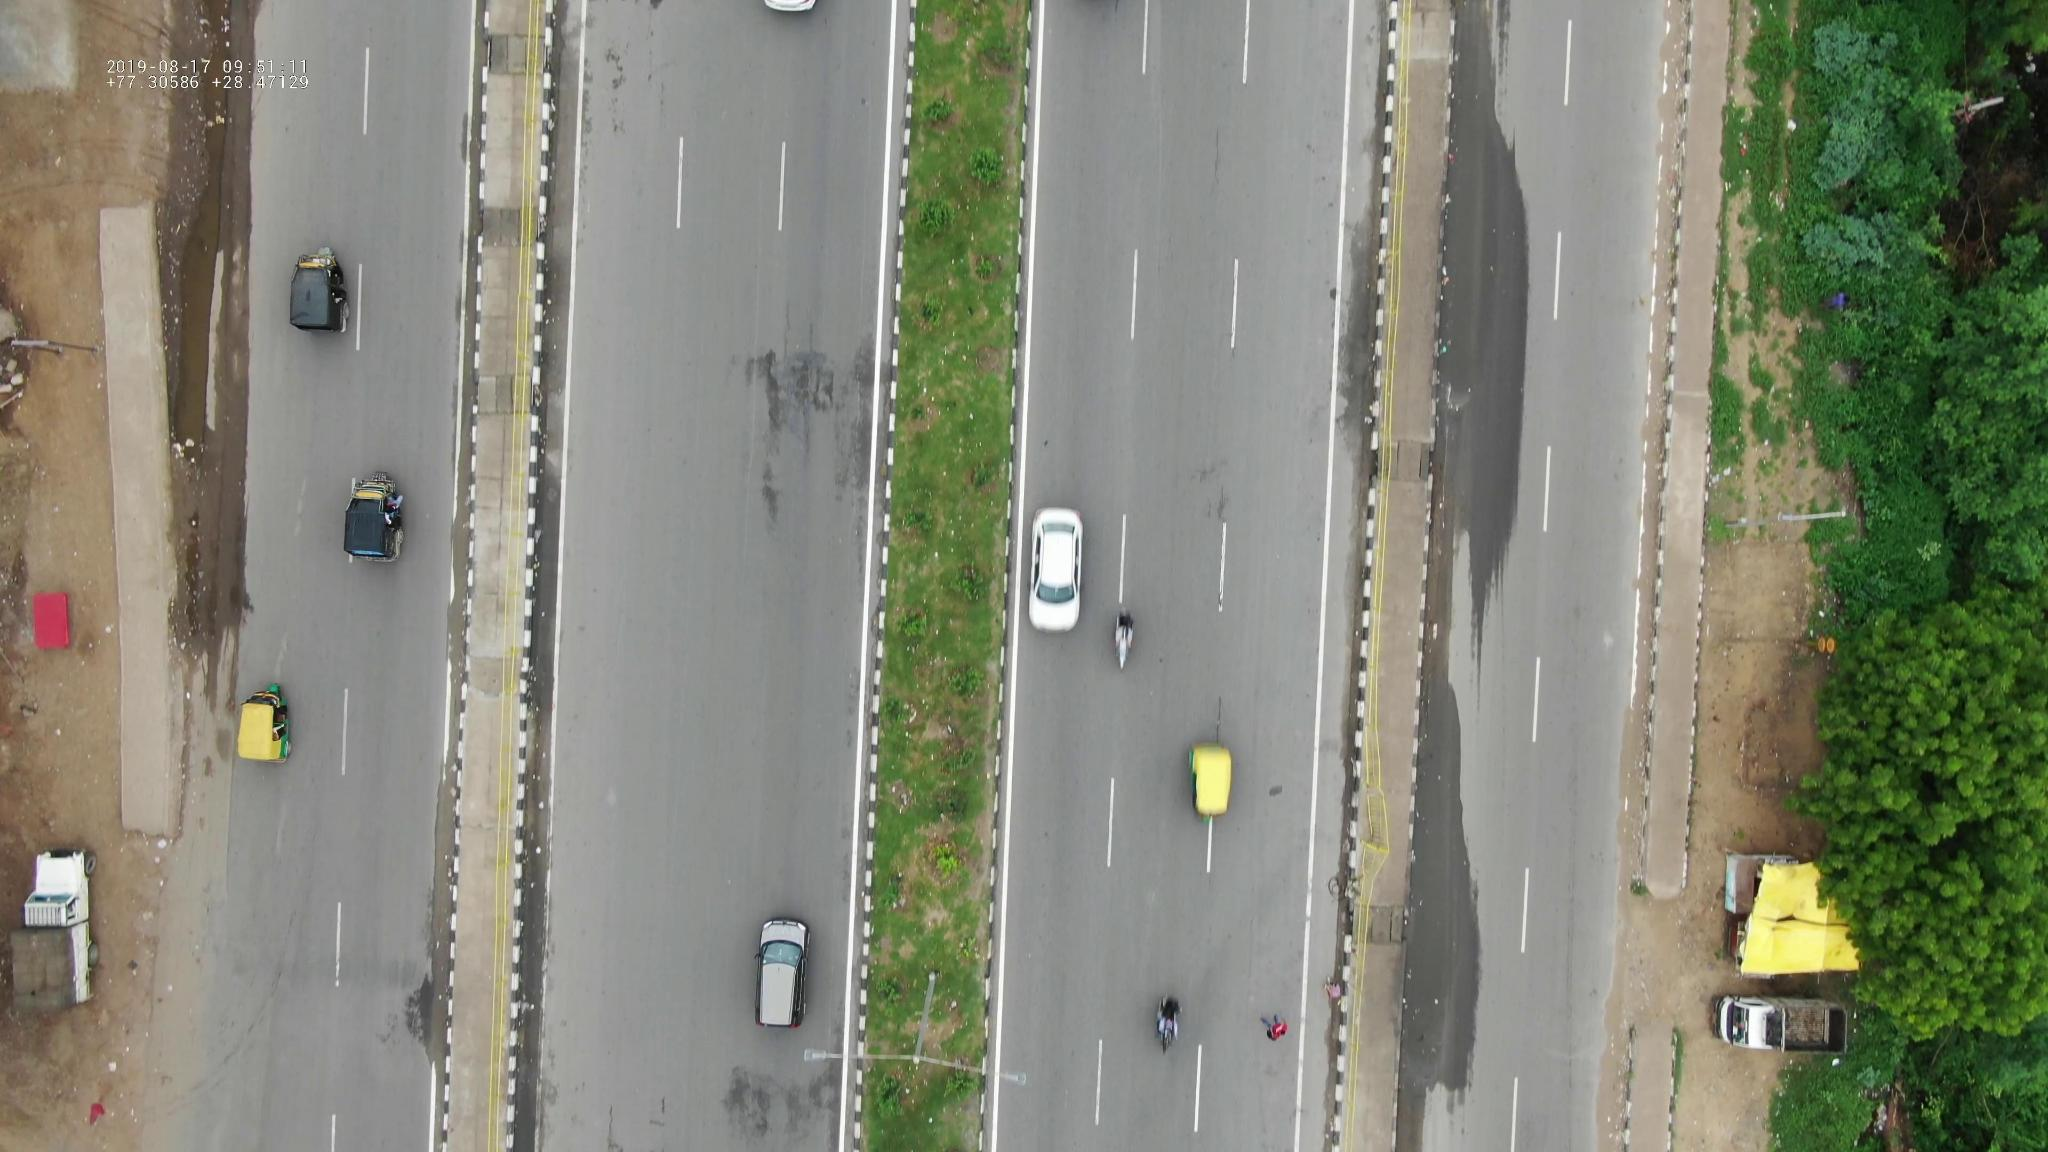Ravelling: (723, 331, 881, 525), (720, 1063, 843, 1144)
